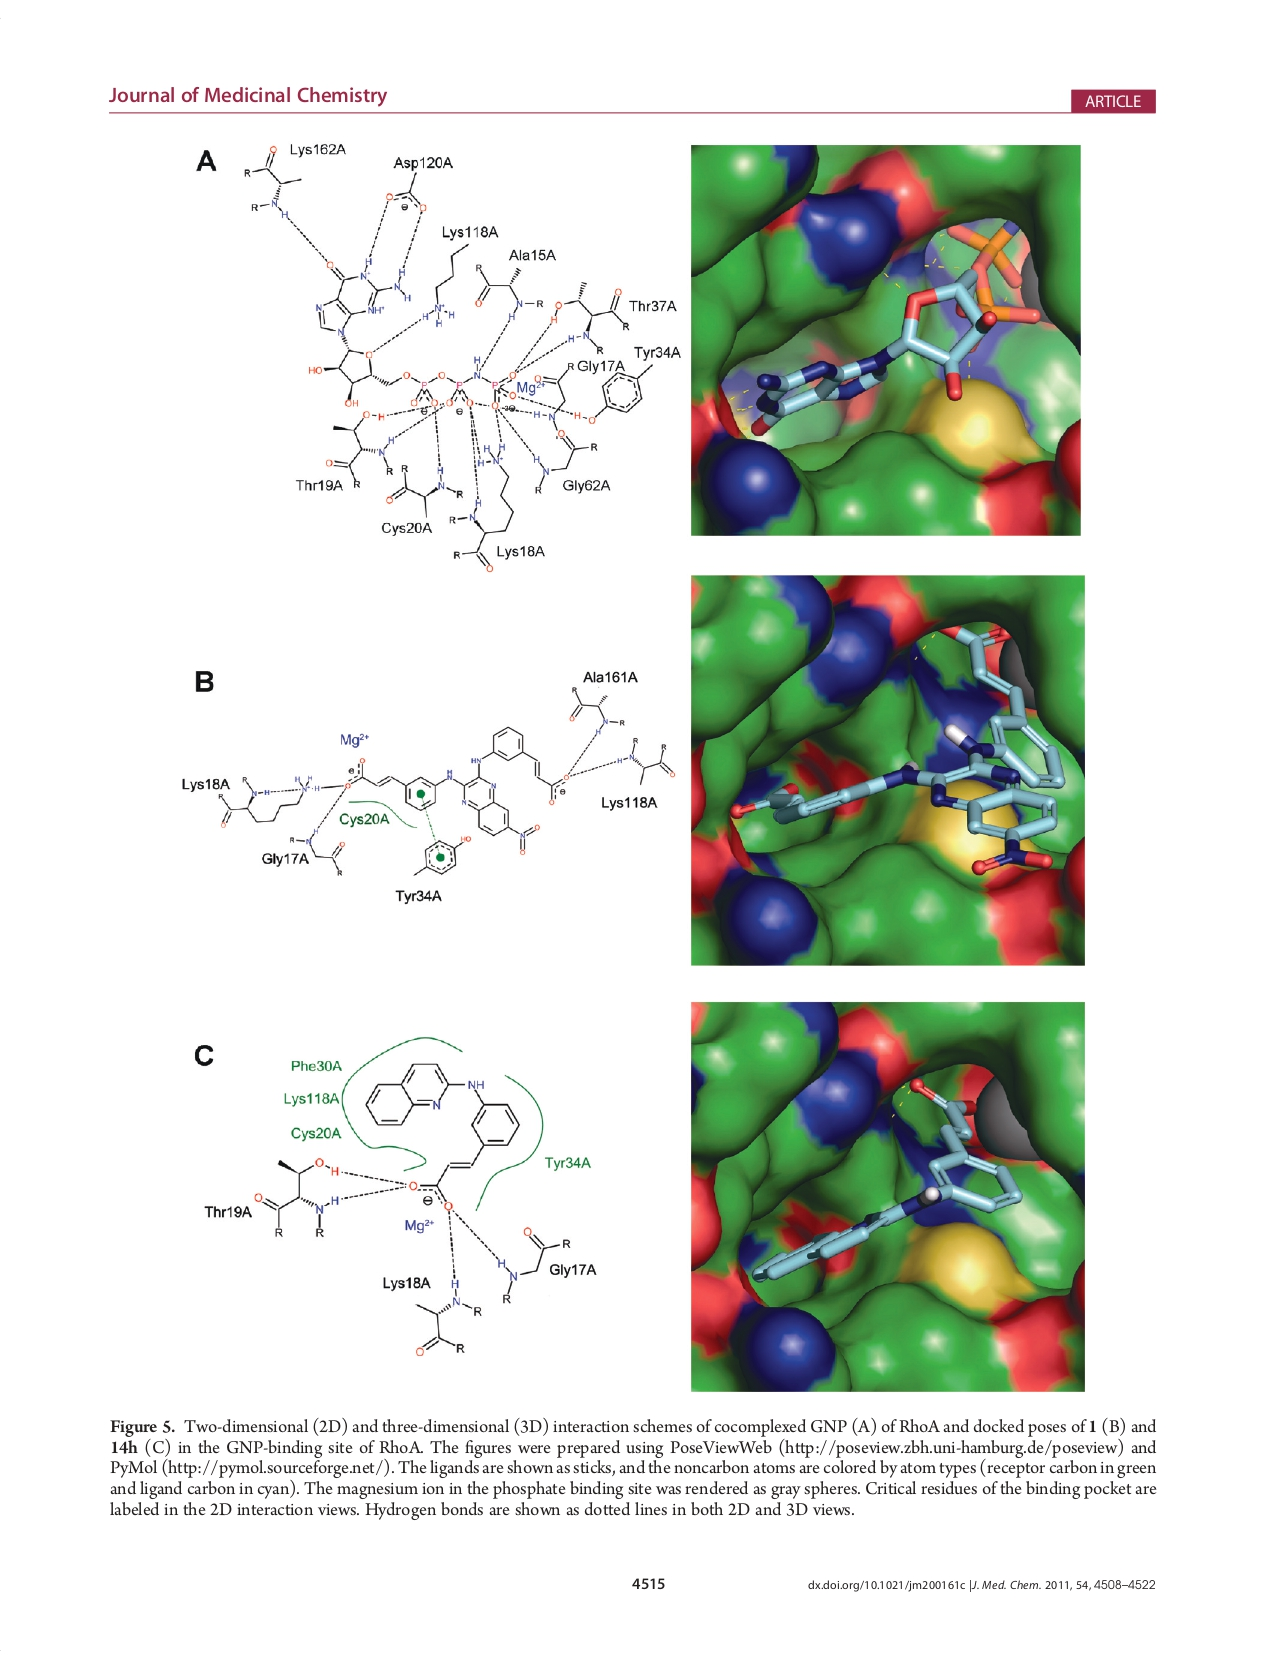exist_molecular: (340, 723, 573, 876), (305, 255, 520, 410), (364, 1060, 523, 1213), (528, 360, 601, 495), (448, 442, 515, 575), (253, 1157, 343, 1242), (492, 1223, 573, 1305), (410, 1278, 485, 1359), (551, 279, 633, 352), (213, 773, 320, 829), (323, 411, 395, 489), (570, 363, 654, 426), (465, 261, 545, 324), (239, 144, 305, 219), (419, 241, 472, 330), (386, 463, 464, 517), (614, 733, 677, 789), (286, 826, 348, 876), (567, 684, 625, 737), (384, 168, 434, 218)
